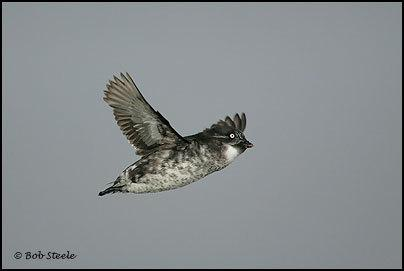006.Least_Auklet: (95, 71, 255, 200)
